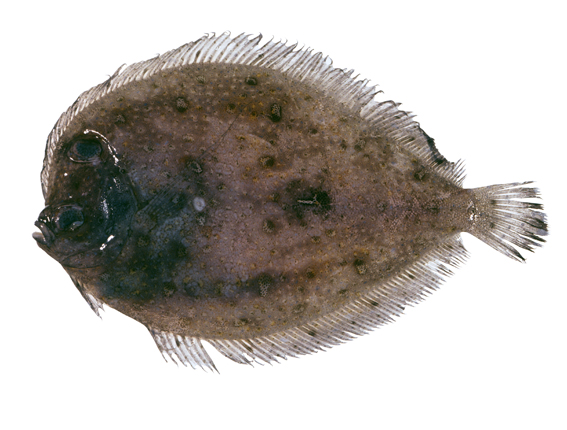fish: (32, 34, 551, 372)
